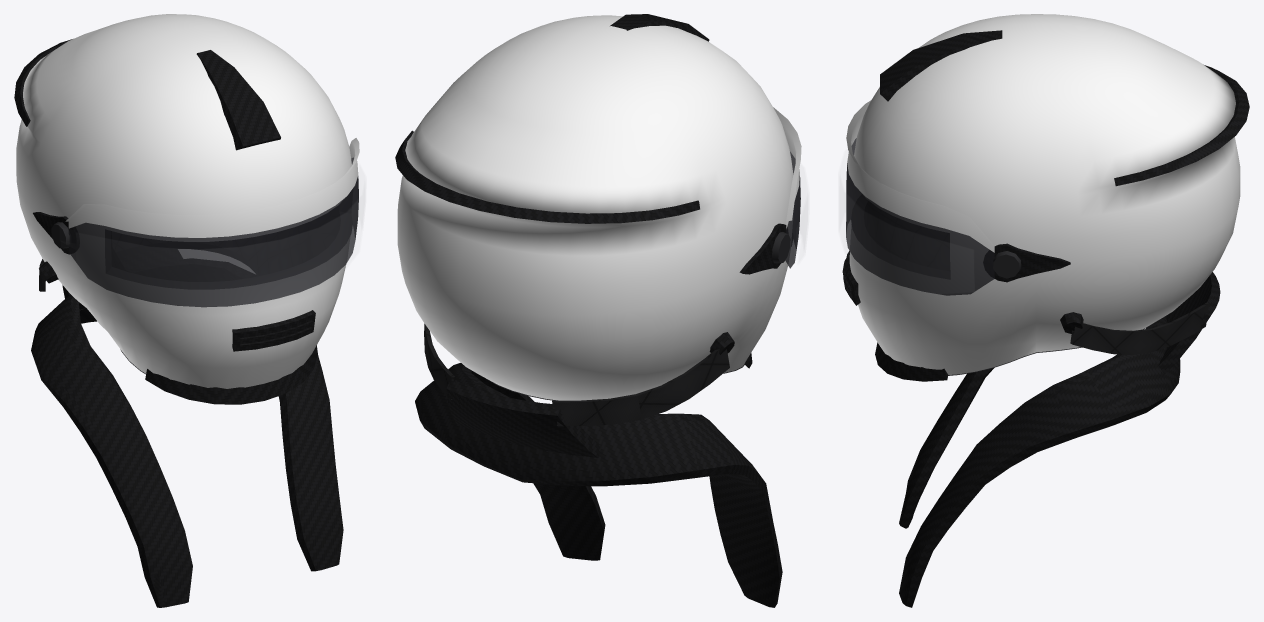
File: helmet_base.glb
3 renders of one model, left to right at view 1: azimuth 30°, elevation 25°; view 2: azimuth 150°, elevation 25°; view 3: azimuth 270°, elevation 25°, orthographic. The views are drawn at different scales.
Visible parts, largest first — view 1: Helmet_Shell, HANS, Helmet_Visor, Helmet_Trim, Helmet_Padding, Helmet_VisorSeal; view 2: Helmet_Shell, HANS, Helmet_Trim, Helmet_Visor, Helmet_VisorSeal; view 3: Helmet_Shell, HANS, Helmet_Visor, Helmet_Trim, Helmet_Padding, Helmet_VisorSeal.
Part boxes in pixels (x1=…): Helmet_Shell: x1=16, y1=14, x2=351, y2=388; HANS: x1=31, y1=249, x2=343, y2=607; Helmet_Visor: x1=65, y1=138, x2=359, y2=307; Helmet_Trim: x1=14, y1=39, x2=317, y2=404; Helmet_Padding: x1=111, y1=206, x2=340, y2=275; Helmet_VisorSeal: x1=51, y1=189, x2=352, y2=374; Helmet_Shell: x1=397, y1=15, x2=793, y2=400; HANS: x1=415, y1=323, x2=782, y2=607; Helmet_Trim: x1=395, y1=14, x2=787, y2=368; Helmet_Visor: x1=773, y1=107, x2=801, y2=268; Helmet_VisorSeal: x1=485, y1=232, x2=792, y2=400; Helmet_Shell: x1=849, y1=14, x2=1240, y2=374; HANS: x1=899, y1=272, x2=1220, y2=607; Helmet_Visor: x1=846, y1=100, x2=994, y2=295; Helmet_Trim: x1=842, y1=30, x2=1249, y2=381; Helmet_Padding: x1=864, y1=201, x2=949, y2=270; Helmet_VisorSeal: x1=851, y1=195, x2=1151, y2=375.
Bounding box in the file's own units: 0.288 × 0.4745 × 0.3342.
Materials: 8 (5 with a texture image).
